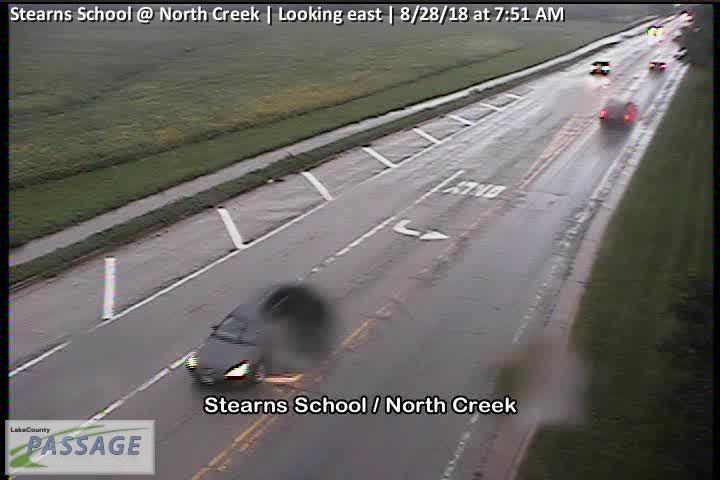SUV: (184, 281, 329, 389), (590, 61, 610, 74)
Sedan: (600, 101, 639, 127), (649, 60, 666, 71)
